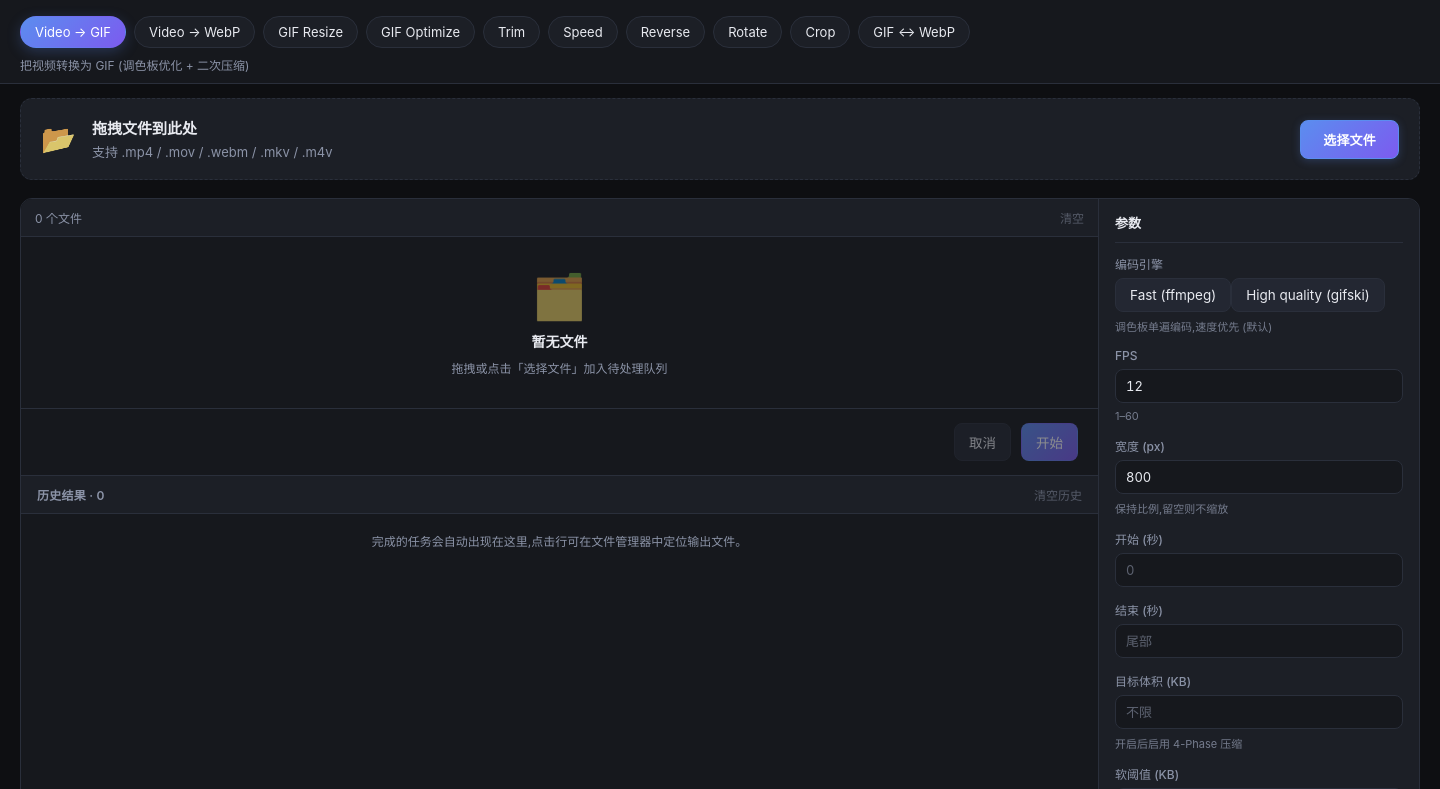
ToolboxPanel › switches the params form when a different kind is selected
This screenshot has width=1440, height=789.
# gif-resize only exposes 目标宽度.
Click the tab "GIF Resize".
click(311, 32)  # box [263,16,358,48]
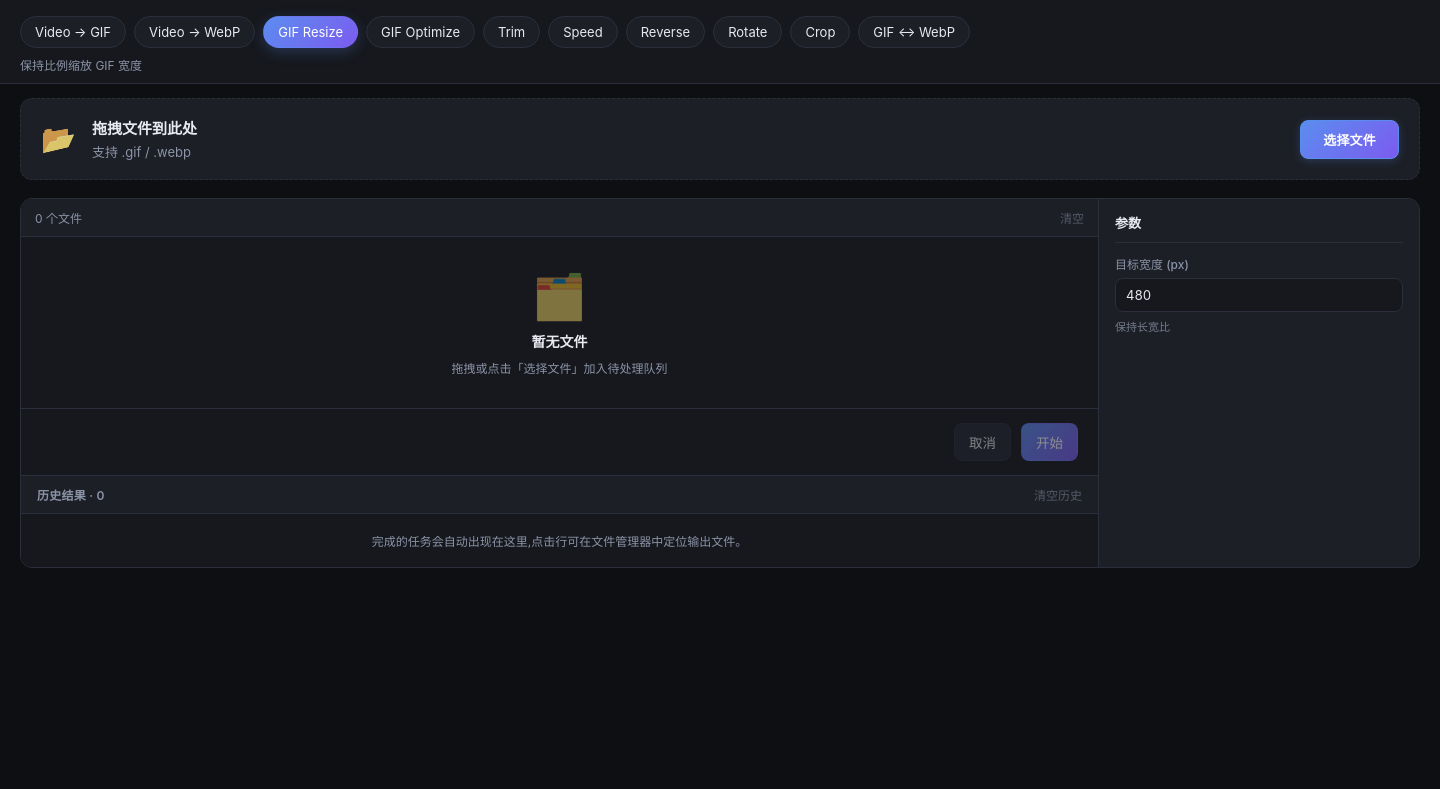
Now the text "目标宽度 (px)" is shown, box [1115,257,1189,272]
Now the text "FPS" is gone
Click the tab "GIF Optimize".
click(421, 32)  # box [366,16,475,48]
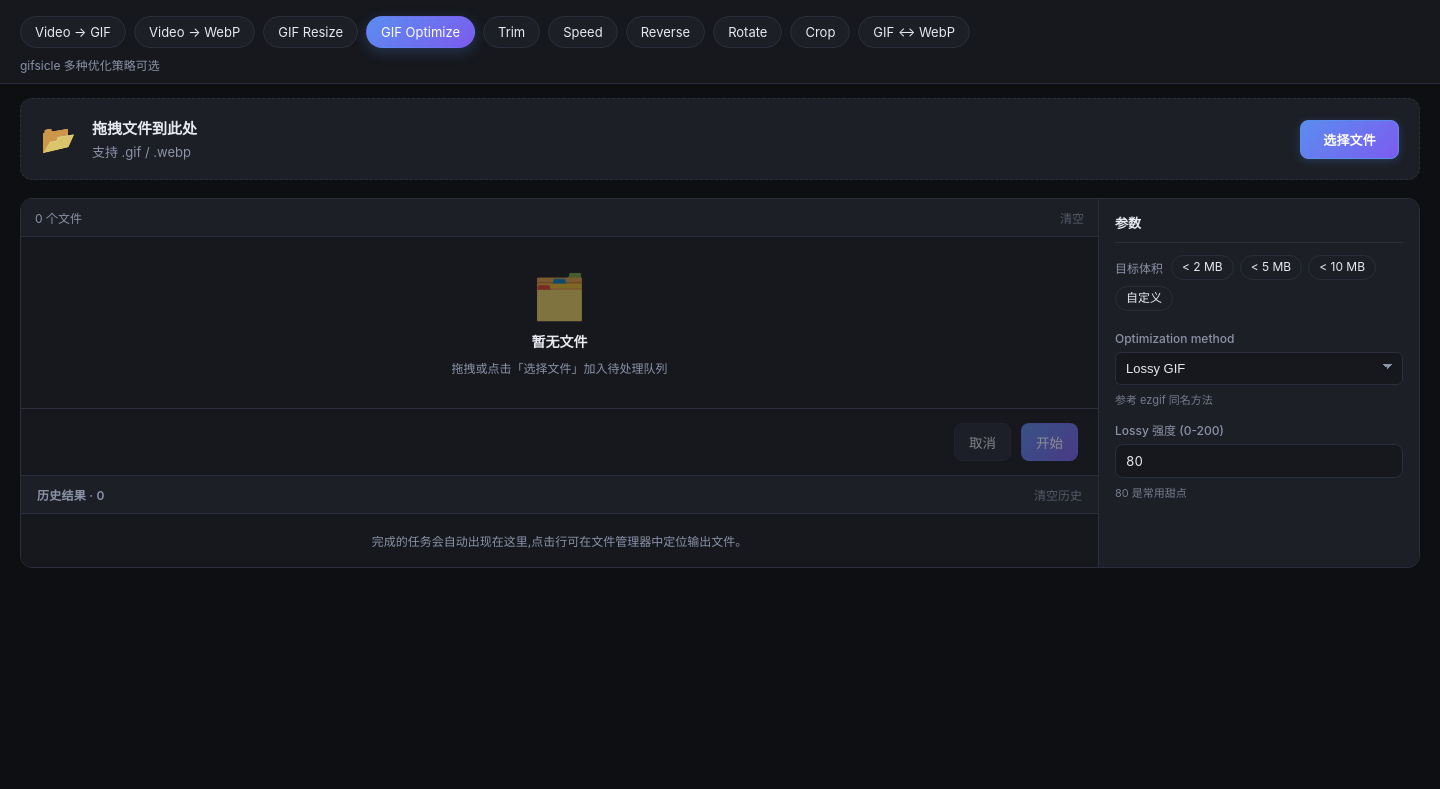
Now the text "Optimization method" is shown, box [1115,331,1234,346]
Now the text "Lossy 强度 (0-200)" is shown, box [1115,423,1224,438]
